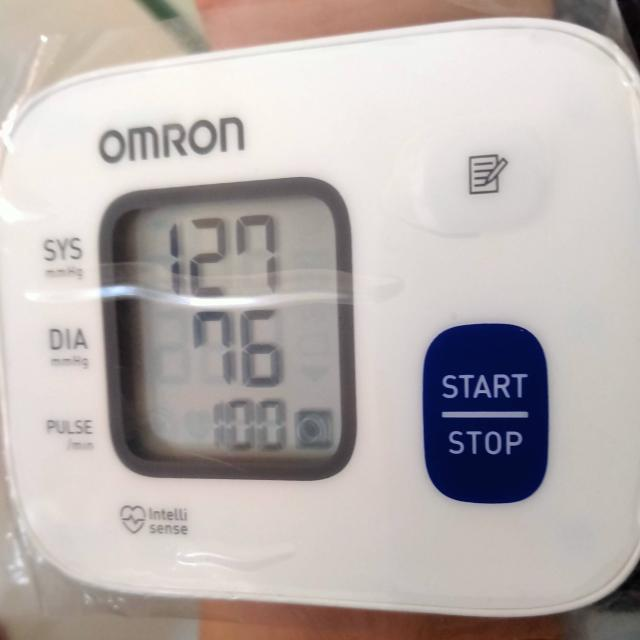bp: (0, 5, 640, 640)
